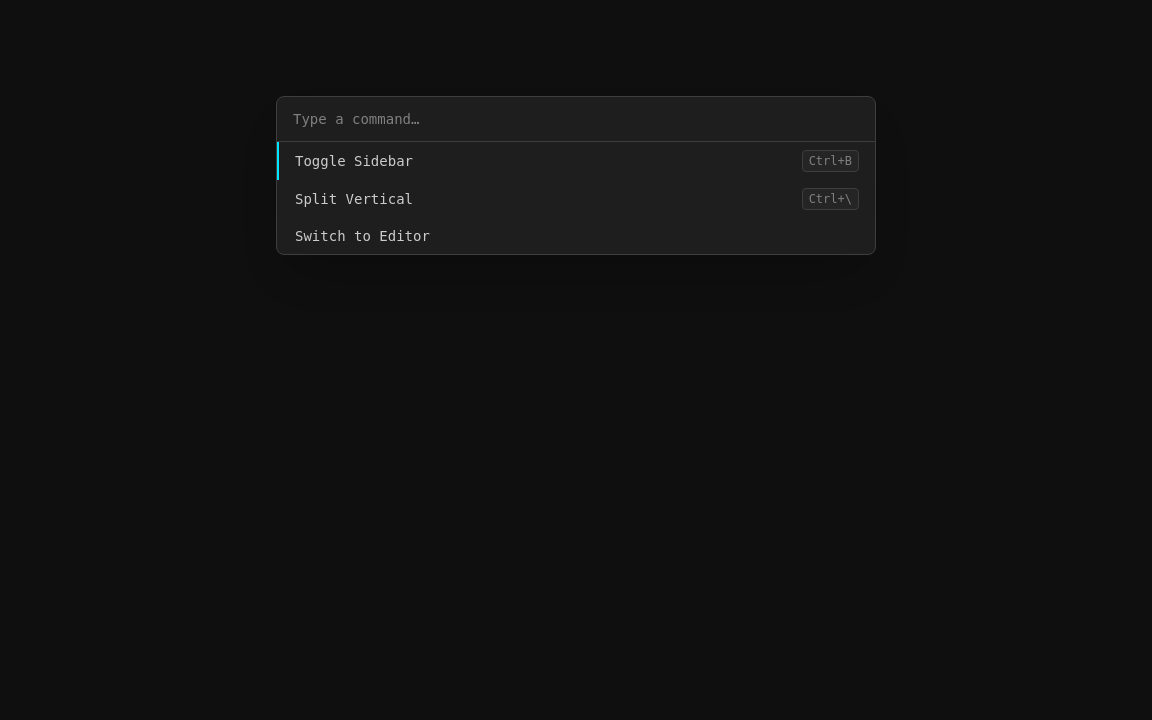
Test: CommandPalette — command mode › filters commands as query is typed
The image size is (1152, 720).
In the field with test id "palette-input": [576, 120] box [277,97,875,142], type "split"
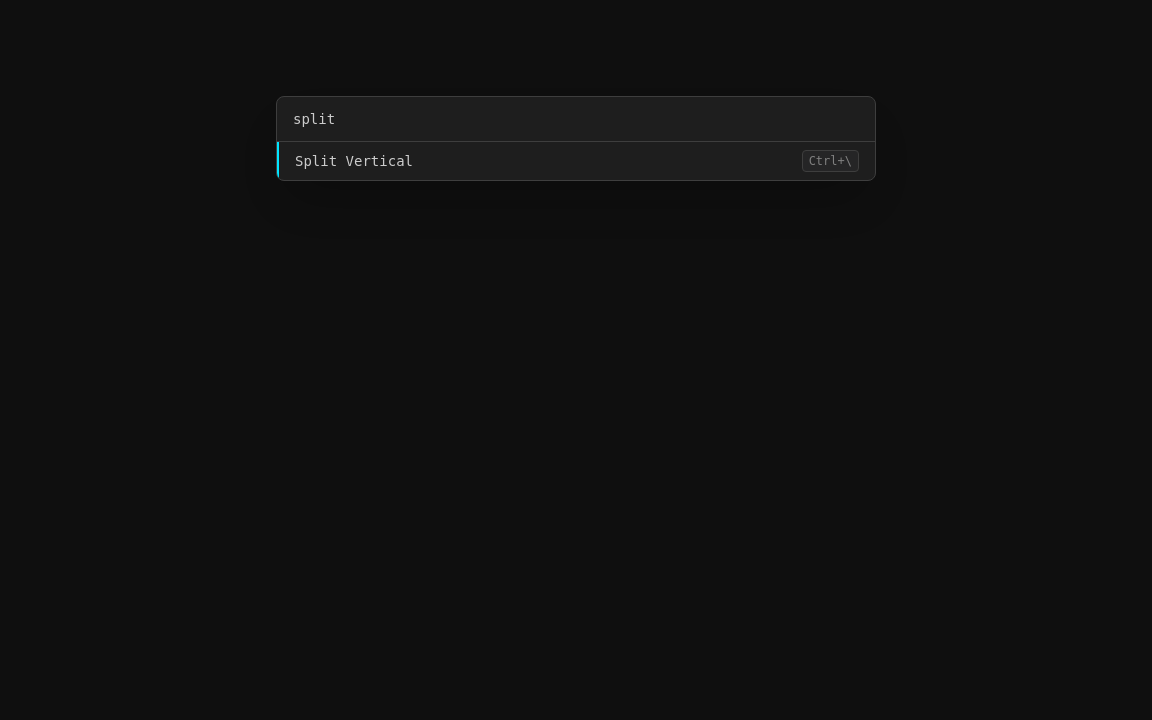
Check: the text "Split Vertical" is shown, box [295,151,413,171]
Check: the option "Toggle Sidebar" is gone
